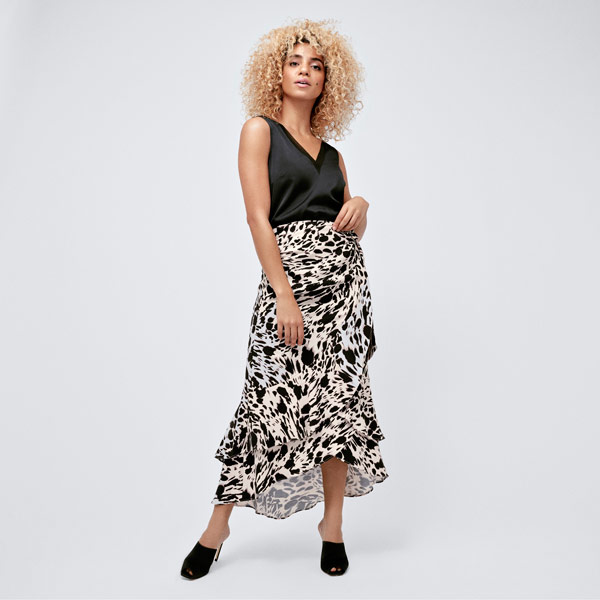C_dress: (197, 139, 395, 517)
